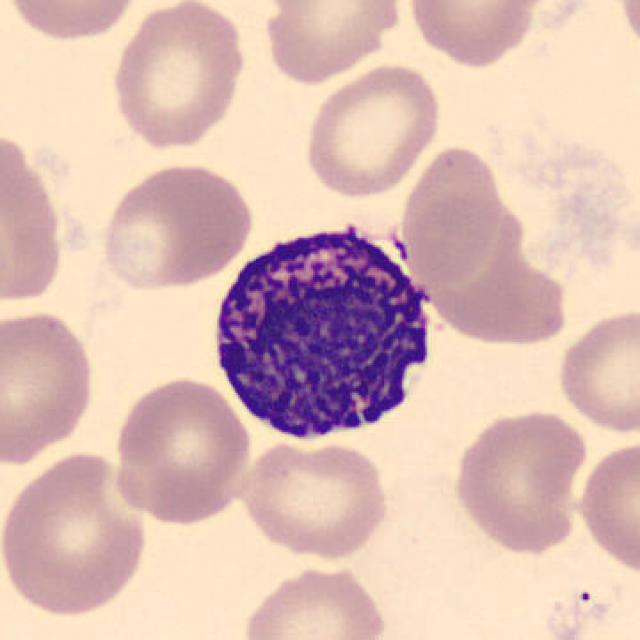Basophil: (203, 208, 448, 451)
RBC: (0, 448, 151, 620), (409, 197, 569, 345), (108, 372, 256, 525), (107, 0, 250, 152), (96, 158, 256, 292), (448, 404, 588, 557), (300, 60, 444, 201), (236, 437, 393, 561), (396, 139, 506, 286), (0, 305, 98, 469), (0, 121, 69, 310), (257, 0, 407, 86), (238, 560, 391, 640), (553, 305, 638, 437), (403, 0, 548, 69), (574, 437, 638, 577), (2, 0, 148, 44), (610, 0, 640, 62)
